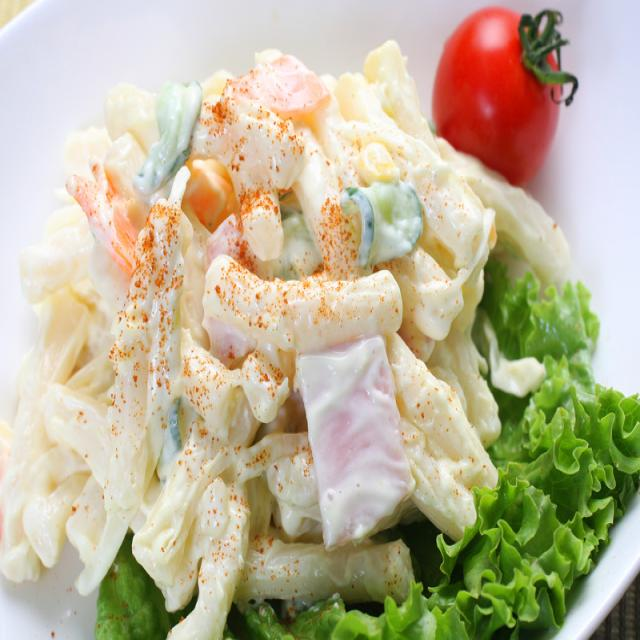蔬菜料理: (0, 35, 589, 640)
